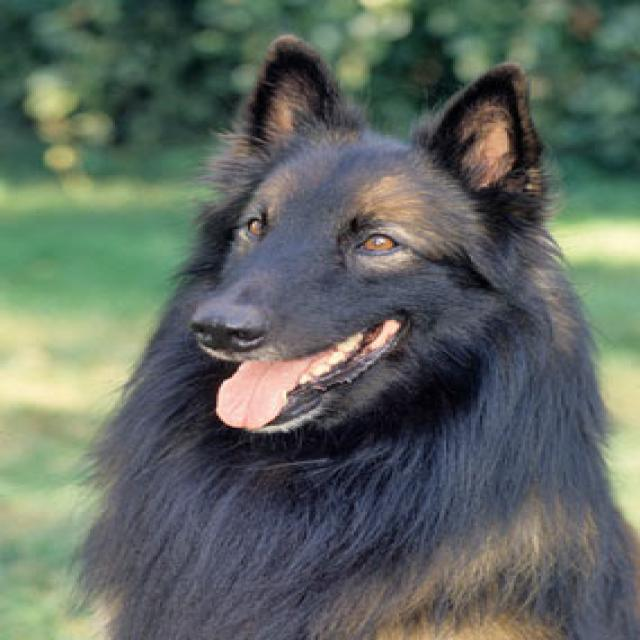dog: (98, 46, 587, 488)
